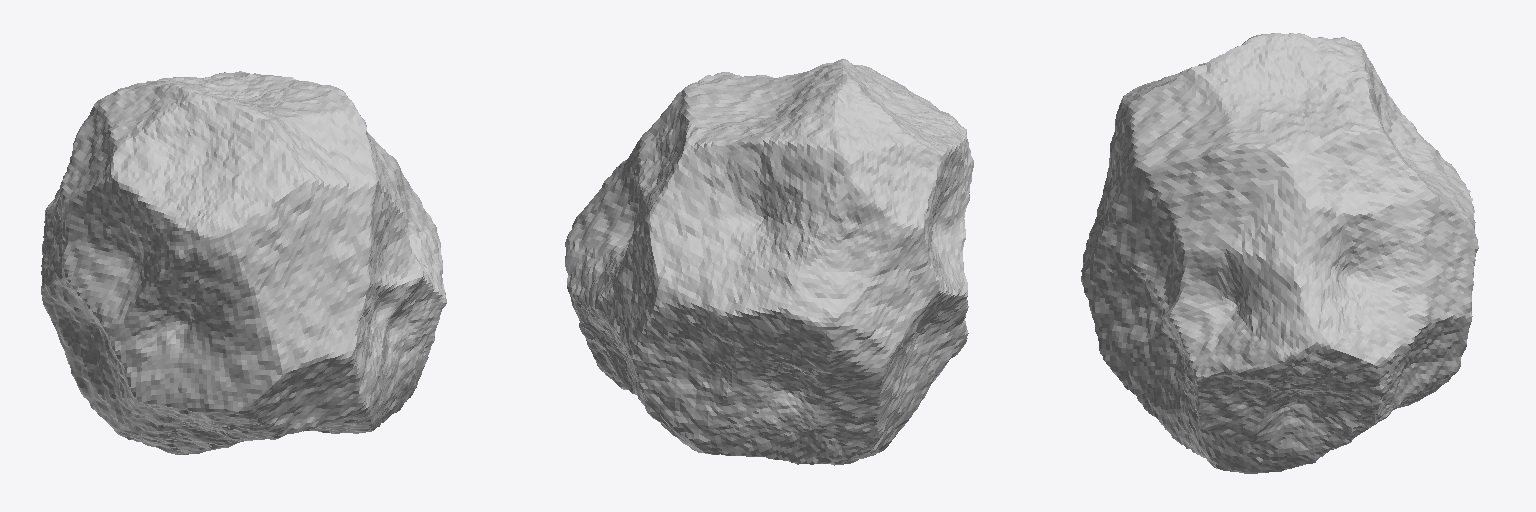
The model's file is meteor.obj.
3 views of the same model, side by side, from view 1: azimuth 30°, elevation 25°; view 2: azimuth 150°, elevation 25°; view 3: azimuth 270°, elevation 25° (orthographic).
Visible parts, largest first — view 1: rock; view 2: rock; view 3: rock.
Boxes of the visible parts, x1=… form: rock: x1=41, y1=71, x2=446, y2=454; rock: x1=565, y1=59, x2=973, y2=465; rock: x1=1081, y1=33, x2=1478, y2=473.
Size of the model in its own units: 2.59 by 2.55 by 2.45.